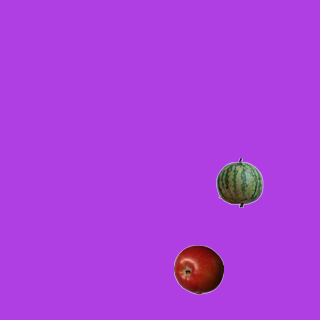Apple Braeburn: (173, 244, 223, 294)
Watermelon: (214, 157, 264, 207)
